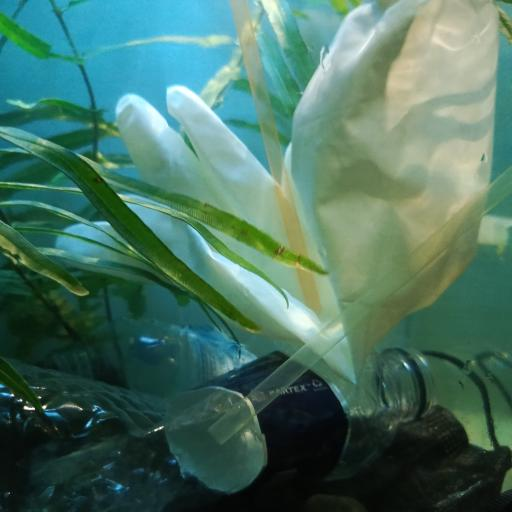glove: (59, 0, 498, 384)
mask: (219, 345, 512, 512)
plastic_bottle: (2, 346, 440, 512), (50, 316, 262, 404)
plastic_straw: (216, 166, 512, 442), (227, 0, 322, 318)
